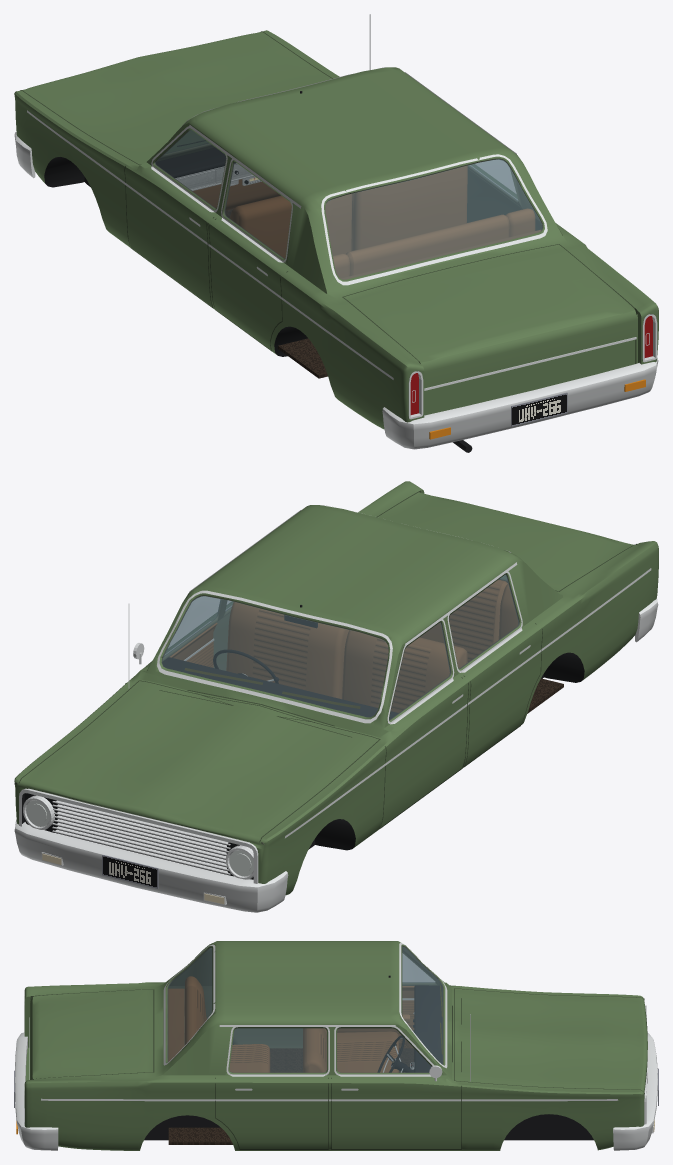
The model's file is valiant.glb.
3 renders of one model, top to bottom at view 1: azimuth 30°, elevation 25°; view 2: azimuth 150°, elevation 25°; view 3: azimuth 270°, elevation 25°, orthographic. The views are drawn at different scales.
Parts seen in each view (by area): view 1: Valiant, Door_L, Door_L_Glass, TailL, TailR; view 2: Valiant, Door_L, Door_L_Glass, Door_R, Door_R_Glass; view 3: Valiant, Door_R, Door_R_Glass, Door_L, Door_L_Glass, SteeringWheel.
Part boxes in pixels (x1,y1,x2,y2): Valiant: [14, 14, 658, 452]; Door_L: [125, 124, 230, 307]; Door_L_Glass: [155, 130, 226, 208]; TailL: [408, 371, 423, 419]; TailR: [642, 314, 657, 362]; Valiant: [14, 481, 658, 912]; Door_L: [326, 614, 468, 827]; Door_L_Glass: [389, 622, 450, 719]; Door_R: [127, 599, 224, 696]; Door_R_Glass: [164, 596, 220, 656]; Valiant: [14, 941, 658, 1150]; Door_R: [331, 1024, 461, 1149]; Door_R_Glass: [337, 1028, 431, 1072]; Door_L: [337, 948, 461, 1048]; Door_L_Glass: [402, 954, 434, 982]; SteeringWheel: [377, 1035, 404, 1072].
Size of the model in its own units: 1.8 by 1.19 by 4.8.
Materials: 31 (10 with a texture image).
